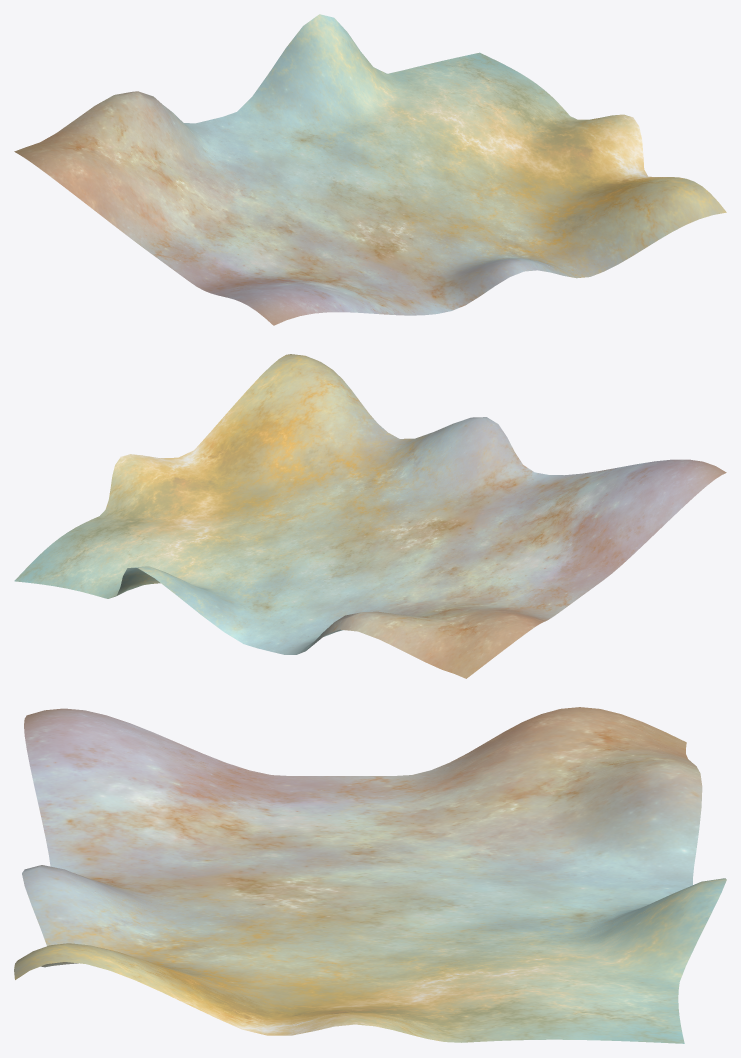
Rendered from ground.fbx.
The picture shows the model from 3 angles, top to bottom: view 1: azimuth 30°, elevation 25°; view 2: azimuth 150°, elevation 25°; view 3: azimuth 270°, elevation 25°; orthographic projection. The views are drawn at different scales.
Parts seen in each view (by area): view 1: Plane; view 2: Plane; view 3: Plane.
Part boxes in pixels (left/top/right/bottom): Plane: left=14, top=14, right=726, bottom=325; Plane: left=14, top=354, right=726, bottom=678; Plane: left=14, top=707, right=726, bottom=1043.
Size of the model in its own units: 2.28 by 0.2833 by 2.22.
Materials: 1 (1 with a texture image).
